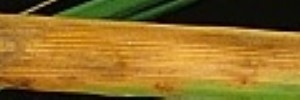RiceSheathBrownRot: (1, 15, 300, 95)
